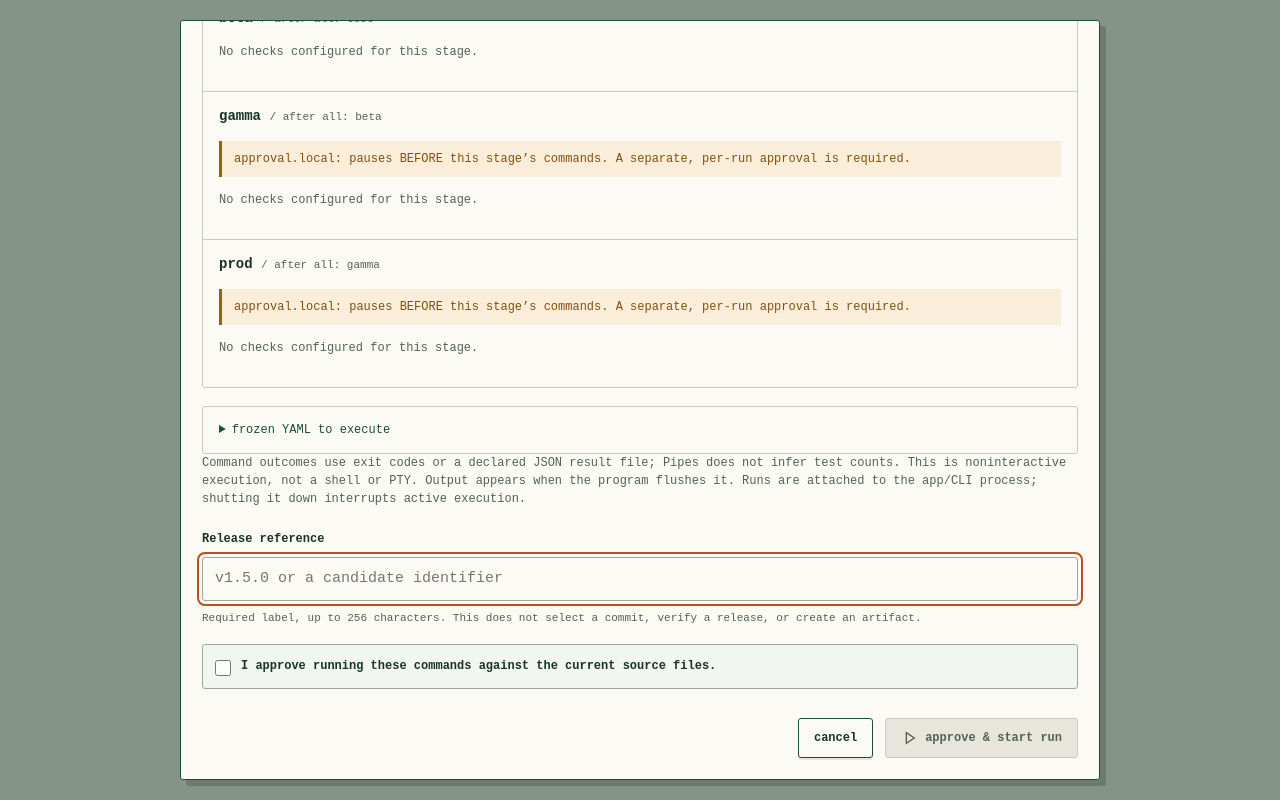
explicit execution review › shows backend failures without claiming that no run was accepted
(page scrolled)
Type "v1.5.0" into the field labelled "Release reference". click: (640, 579)
box: [202,556,1078,601]
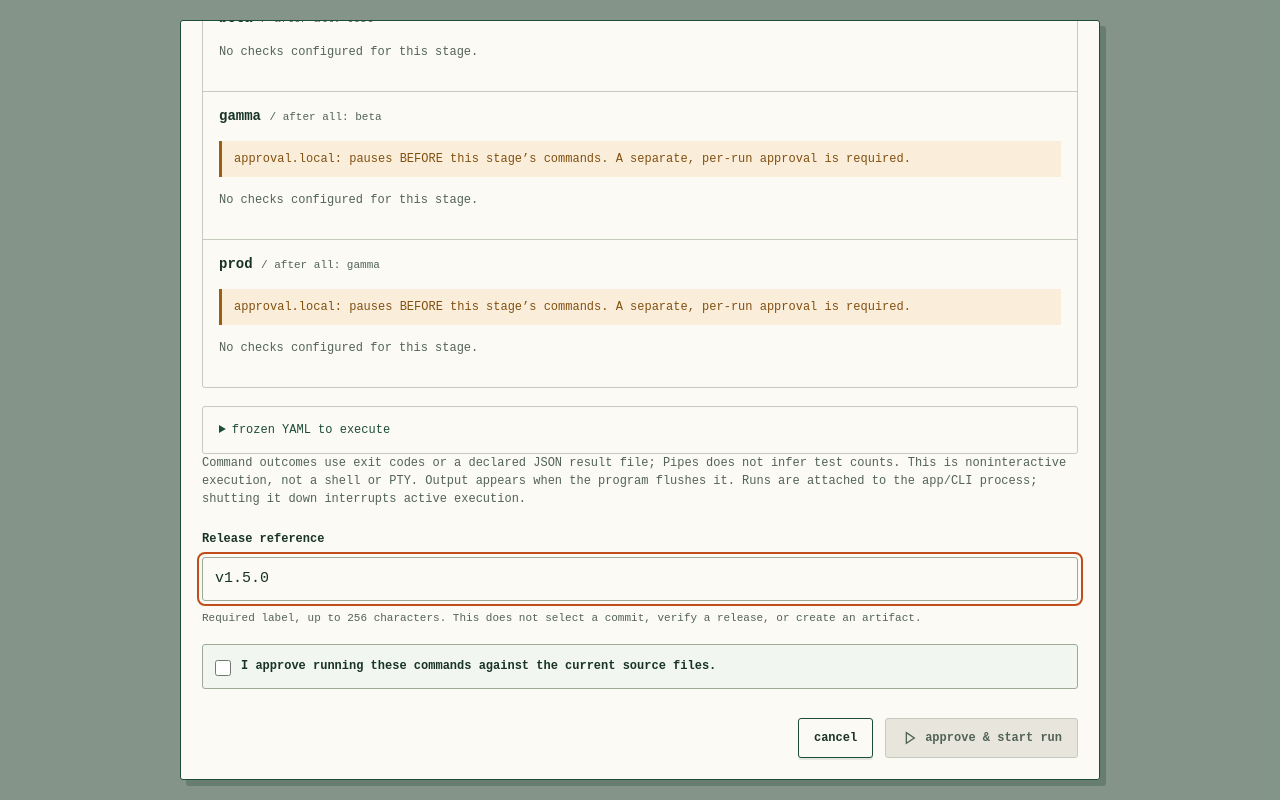
Click the checkbox. click: (223, 668)
box: [215,660,231,676]
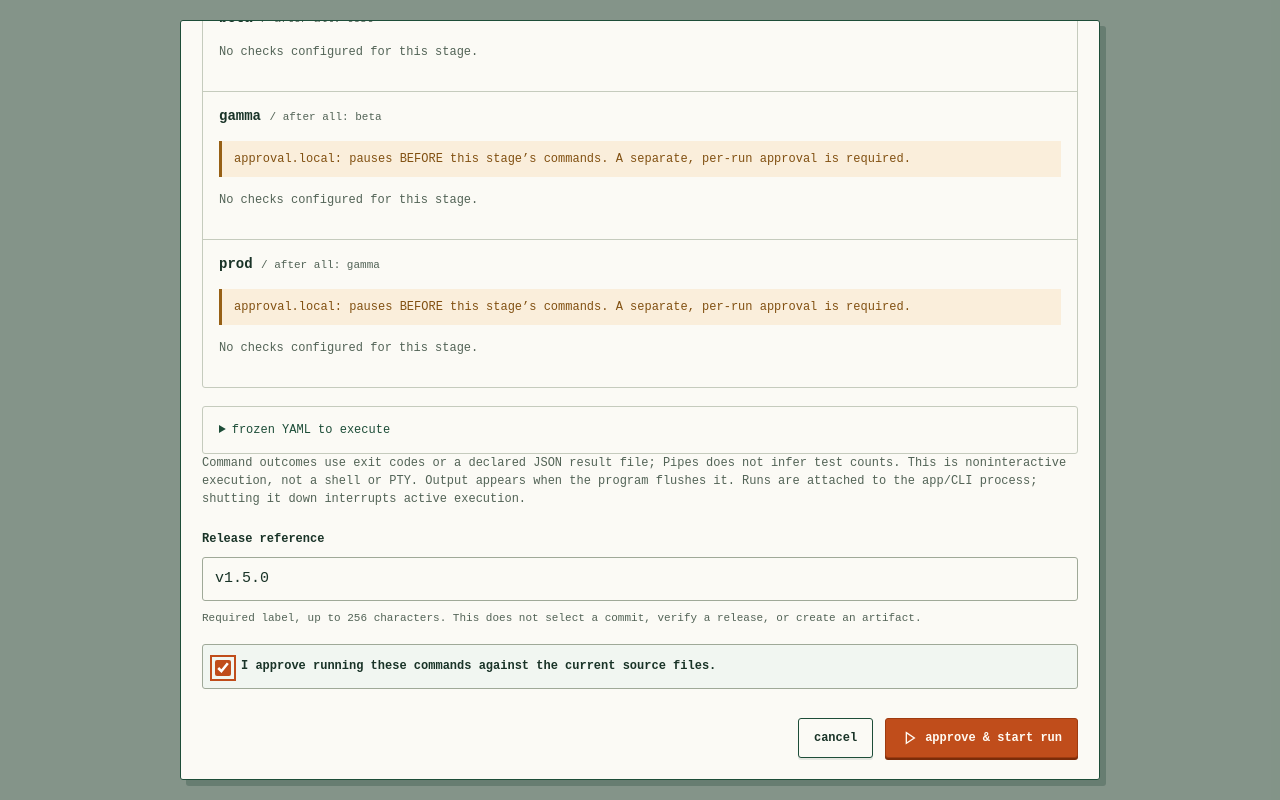
Click the button "approve & start run". click: (982, 738)
box: [885,718,1078,758]
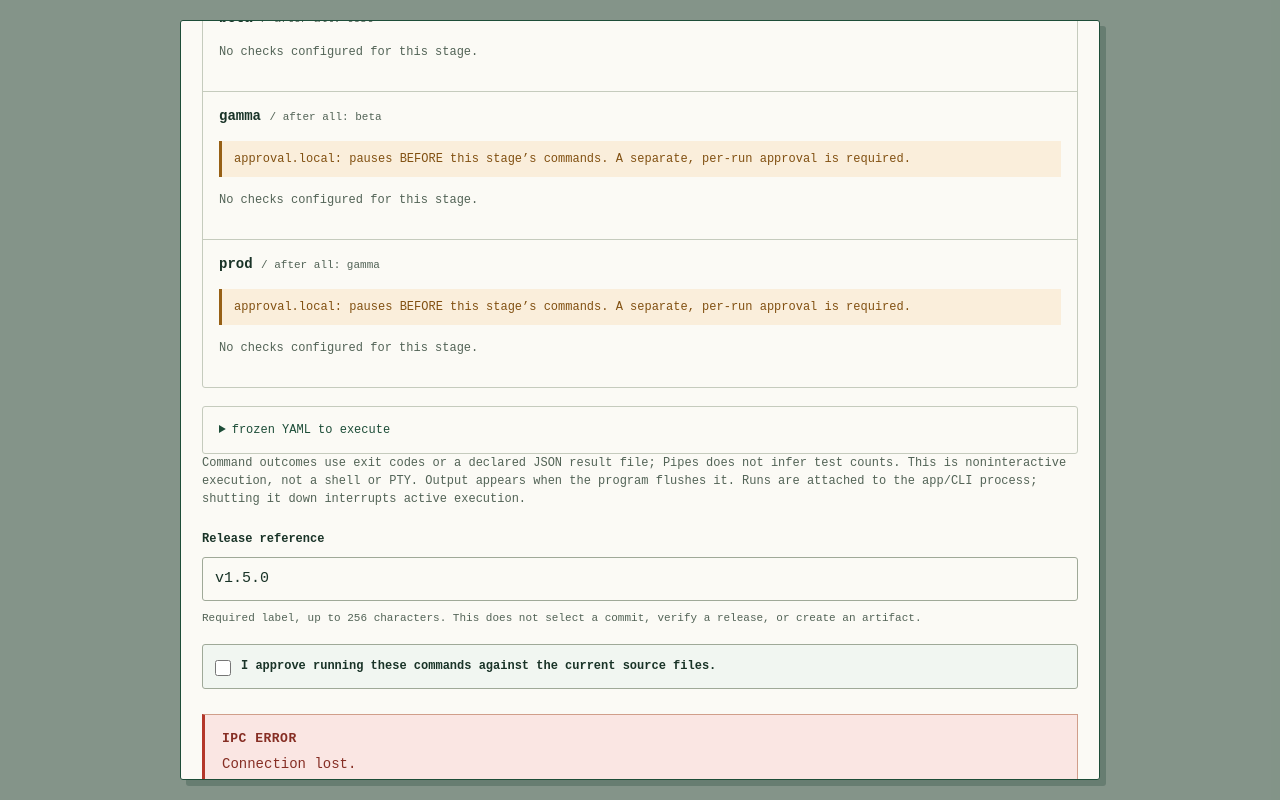
Result: the checkbox is not checked at [215,660,231,676]
Result: the message shows "Connection lost" at [222,756,356,772]
